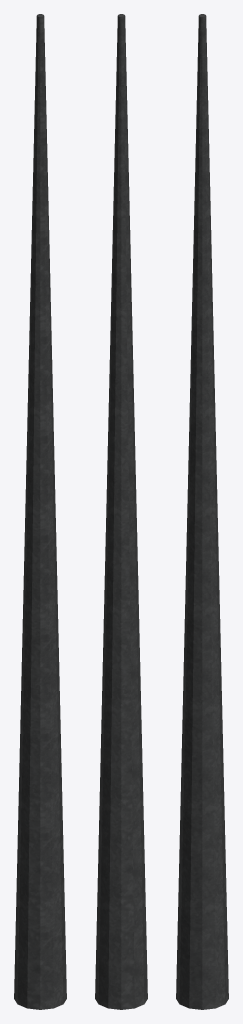
The model's file is Lamp_post.glb.
The picture shows the model from 3 angles, left to right: view 1: azimuth 90°, elevation 25°; view 2: azimuth 210°, elevation 25°; view 3: azimuth 270°, elevation 25°; orthographic projection.
Parts seen in each view (by area): view 1: Lamp post; view 2: Lamp post; view 3: Lamp post.
Boxes of the visible parts, bbox=[...] form: Lamp post: bbox=[14, 14, 66, 1009]; Lamp post: bbox=[95, 14, 147, 1009]; Lamp post: bbox=[176, 14, 228, 1009].
Bounding box in the file's own units: 8 × 164 × 8.
Materials: 1 (1 with a texture image).
